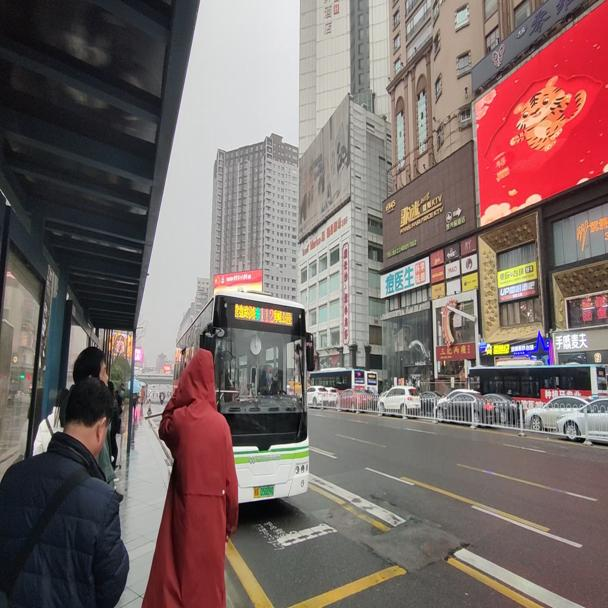bus: (171, 284, 314, 511)
screen: (260, 306, 273, 322)
